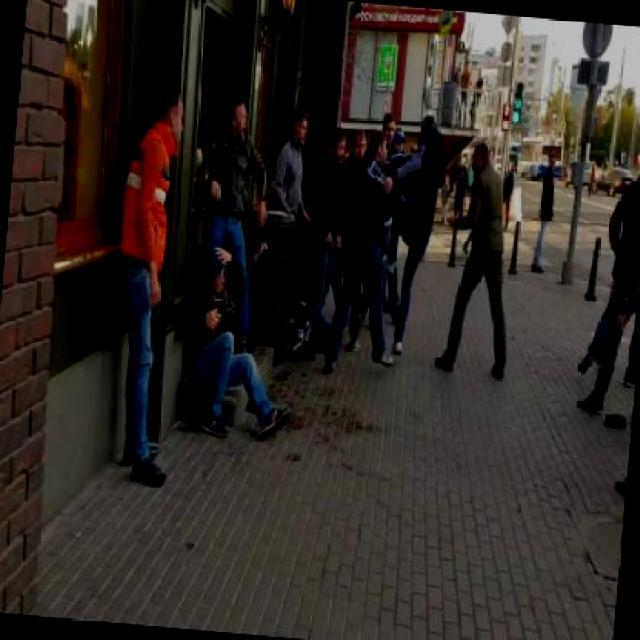fight: (324, 102, 452, 384)
non-fight: (94, 81, 206, 492), (194, 84, 282, 342), (435, 144, 523, 378), (296, 119, 352, 368), (528, 150, 561, 278)
